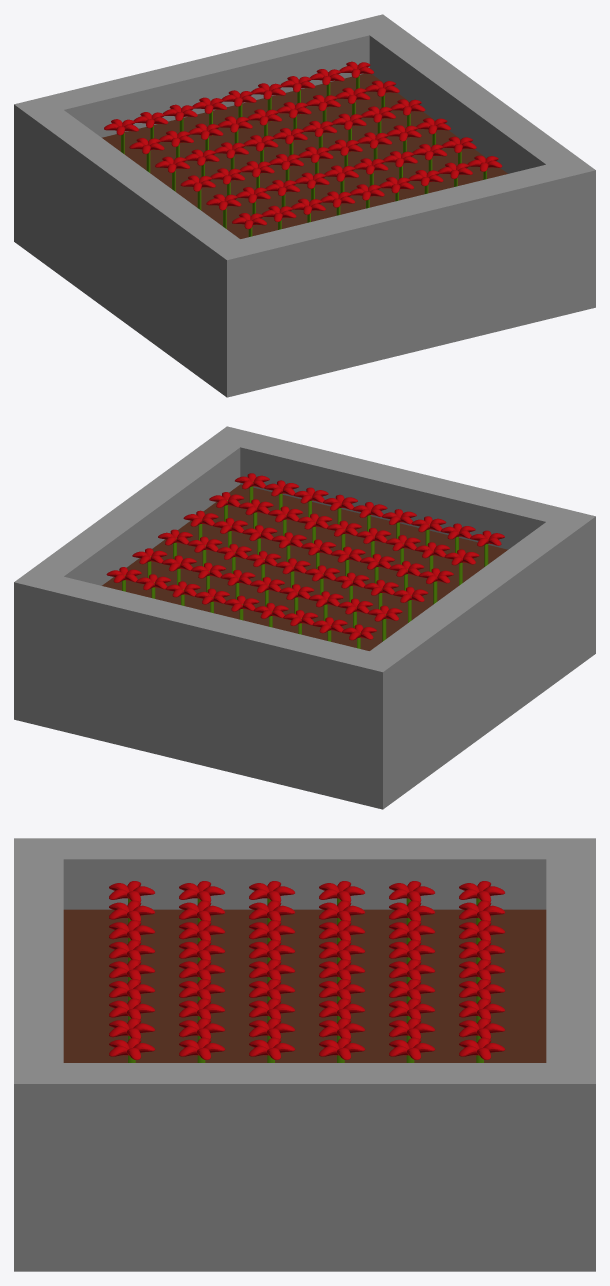
The model's file is MacetaCuadrada.fbx.
3 views of the same model, one above another, from view 1: azimuth 30°, elevation 25°; view 2: azimuth 150°, elevation 25°; view 3: azimuth 270°, elevation 25° (orthographic). The views are drawn at different scales.
Visible parts, largest first — view 1: Cube, Cube.001, Cylinder.016; view 2: Cube, Cube.001, Cylinder.016; view 3: Cube, Cube.001, Cylinder.016.
Part boxes in pixels (left/top/right/bottom): Cube: left=14, top=14, right=595, bottom=397; Cube.001: left=102, top=73, right=507, bottom=238; Cylinder.016: left=121, top=75, right=486, bottom=236; Cube: left=14, top=426, right=595, bottom=809; Cube.001: left=102, top=484, right=507, bottom=650; Cylinder.016: left=122, top=486, right=488, bottom=648; Cube: left=14, top=838, right=595, bottom=1271; Cube.001: left=63, top=909, right=546, bottom=1062; Cylinder.016: left=128, top=898, right=483, bottom=1062.
Bounding box in the file's own units: 137 × 48.91 × 137.
